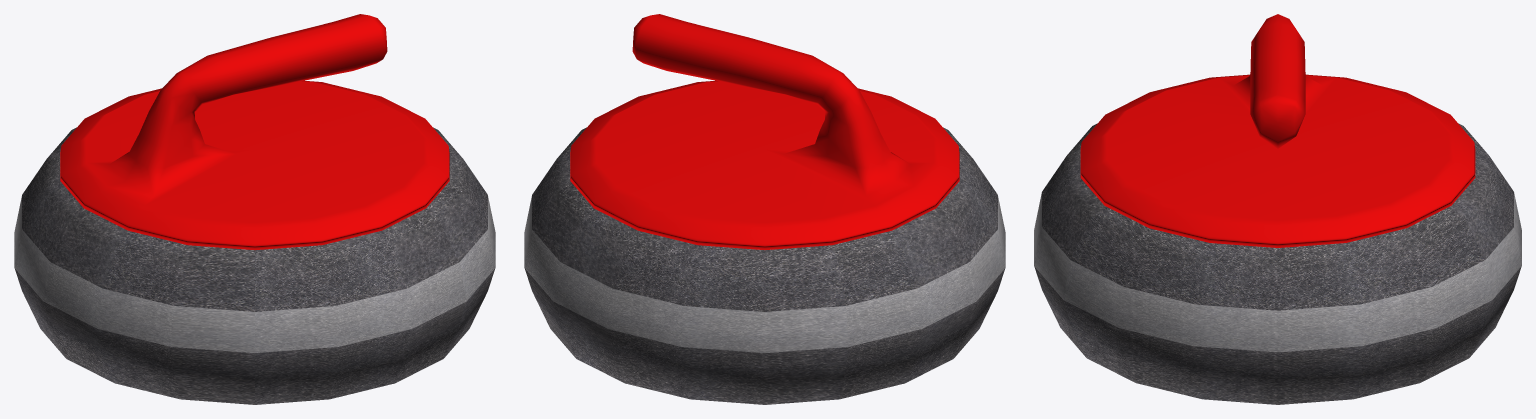
Rendered from Stone_red.fbx.
3 views of the same model, side by side, from view 1: azimuth 30°, elevation 25°; view 2: azimuth 150°, elevation 25°; view 3: azimuth 270°, elevation 25° (orthographic).
Parts seen in each view (by area): view 1: pCylinder2; view 2: pCylinder2; view 3: pCylinder2.
Part boxes in pixels (<box>): pCylinder2: <box>14,14,495,404</box>; pCylinder2: <box>524,14,1005,404</box>; pCylinder2: <box>1034,14,1521,404</box>.
Bounding box in the file's own units: 0.2191 × 0.1335 × 0.2158.
4 materials, 2 textured.
